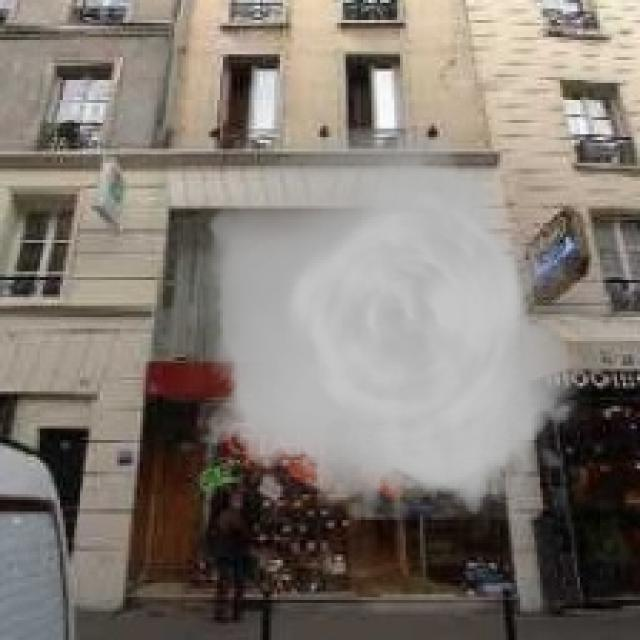smoke: (188, 126, 592, 520)
